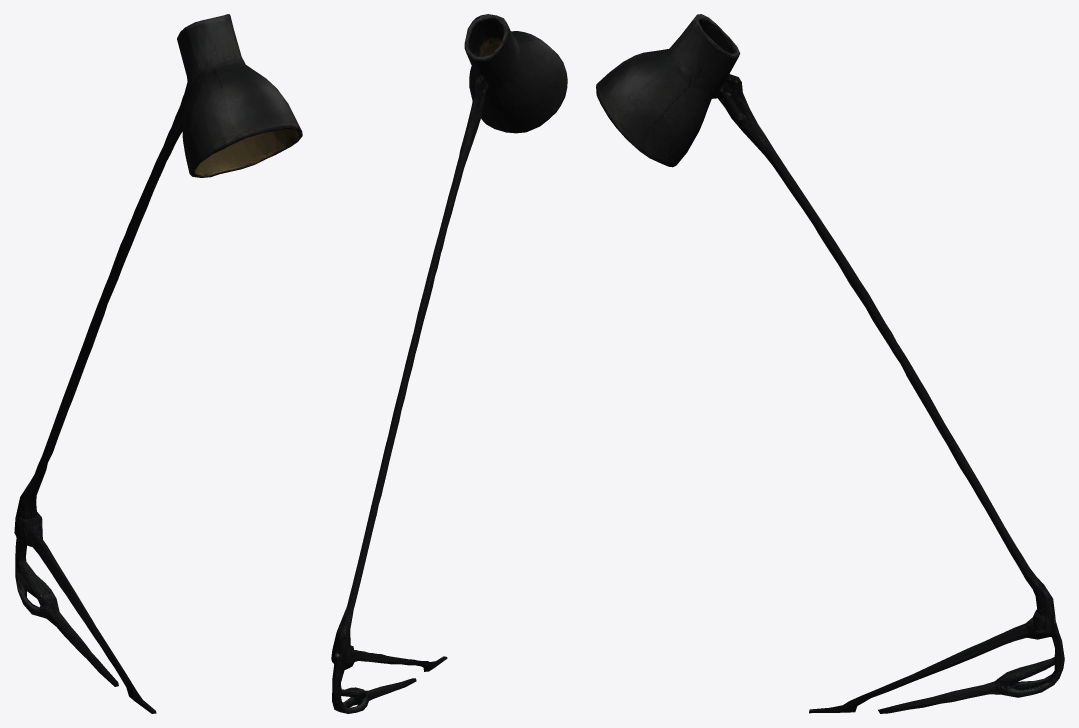
3 renders of one model, left to right at view 1: azimuth 30°, elevation 25°; view 2: azimuth 150°, elevation 25°; view 3: azimuth 270°, elevation 25°, orthographic. The views are drawn at different scales.
Visible parts, largest first — view 1: world; view 2: world; view 3: world.
Part boxes in pixels (box(x1,y1,x2,y2)): world: box(14, 14, 302, 713); world: box(331, 14, 567, 713); world: box(596, 14, 1064, 713).
Bounding box in the file's own units: 0.1483 × 1 × 0.613.
Materials: 1 (1 with a texture image).
